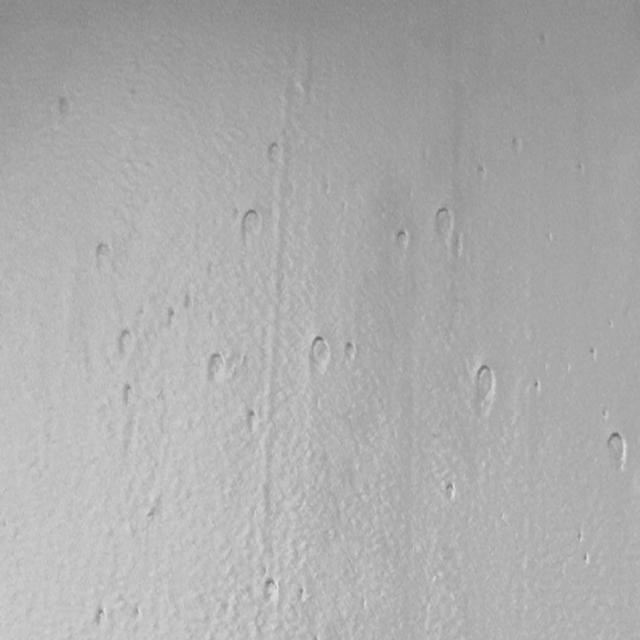pin holes: (470, 362, 499, 411), (602, 429, 630, 470), (432, 207, 457, 246), (306, 335, 330, 373), (205, 352, 228, 384), (240, 210, 264, 240), (115, 327, 135, 360), (92, 240, 114, 268), (264, 142, 285, 168), (91, 605, 111, 631), (242, 409, 260, 436), (260, 578, 278, 605), (54, 95, 74, 119), (391, 228, 410, 253), (120, 382, 136, 408), (442, 479, 458, 504), (508, 135, 525, 157), (535, 30, 551, 53), (344, 341, 358, 366), (295, 585, 309, 605), (165, 307, 178, 327), (183, 295, 196, 314), (131, 606, 144, 624), (476, 164, 488, 182), (531, 379, 543, 396), (587, 345, 599, 362), (581, 552, 593, 569), (575, 160, 587, 177), (598, 406, 609, 424), (545, 230, 557, 246), (606, 316, 618, 331), (576, 532, 586, 546)
